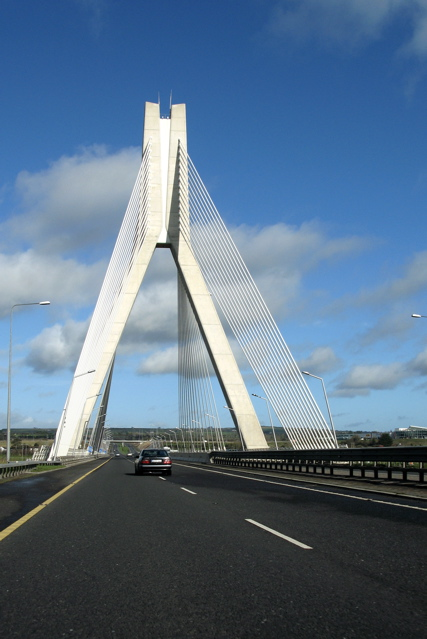bridge: (48, 99, 340, 465)
